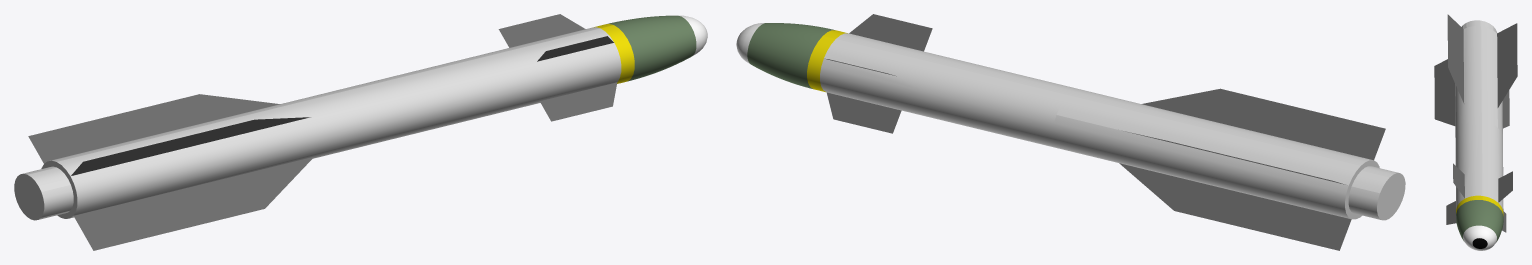
The picture shows the model from 3 angles, left to right: view 1: azimuth 30°, elevation 25°; view 2: azimuth 150°, elevation 25°; view 3: azimuth 270°, elevation 25°; orthographic projection. The views are drawn at different scales.
Parts seen in each view (by area): view 1: YL1; view 2: YL1; view 3: YL1.
Boxes of the visible parts, x1=… form: YL1: x1=14, y1=14, x2=707, y2=250; YL1: x1=736, y1=14, x2=1405, y2=250; YL1: x1=1434, y1=14, x2=1517, y2=250.
Bounding box in the file's own units: 6.31 × 0.8205 × 1.06.
